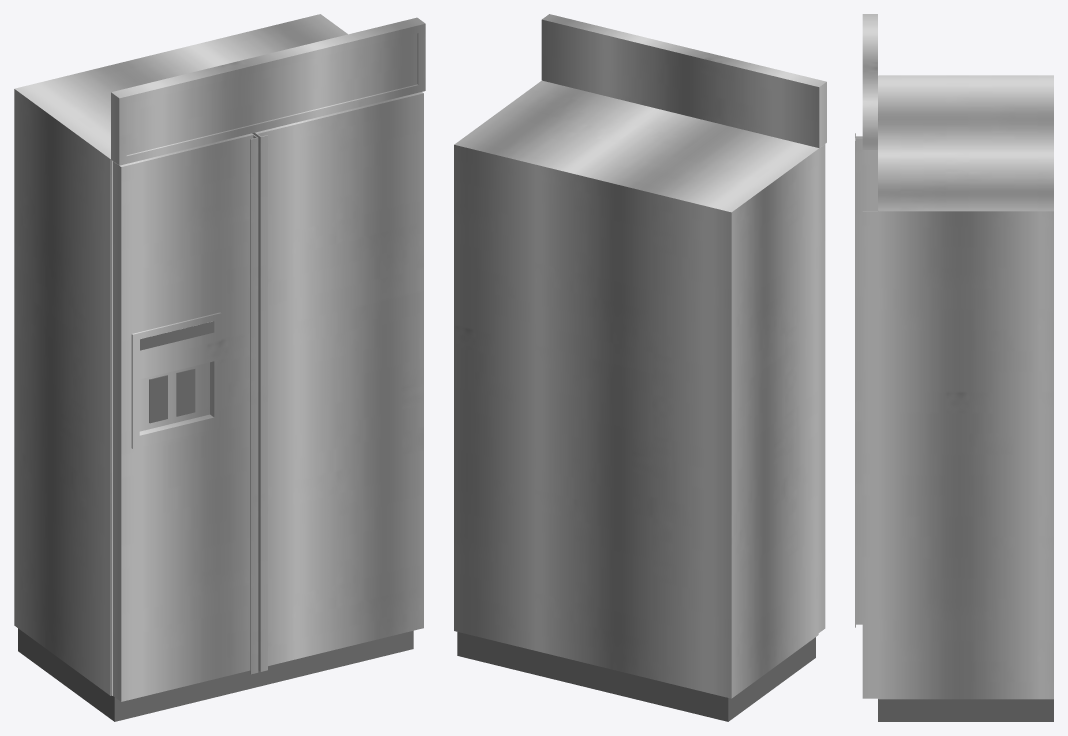
Rendered from KSSP42QTS.gltf.
3 views of the same model, side by side, from view 1: azimuth 30°, elevation 25°; view 2: azimuth 150°, elevation 25°; view 3: azimuth 270°, elevation 25° (orthographic). The views are drawn at different scales.
Visible parts, largest first — view 1: Group_4, Group_2, Group_5, Group_11, Group_10, Group_1, Group_3, Group_8, Group_9, Component_1 (×2), SketchUp; view 2: Group_2, Group_10, Group_3, Group_5; view 3: Group_2, Group_4, Group_3, Group_8, Group_10.
Boxes of the visible parts, left/top/right/bottom form: Group_4: left=256, top=92, right=423, bottom=665; Group_2: left=14, top=14, right=347, bottom=695; Group_5: left=113, top=133, right=253, bottom=701; Group_11: left=126, top=33, right=417, bottom=154; Group_10: left=111, top=17, right=425, bottom=165; Group_1: left=131, top=312, right=221, bottom=448; Group_3: left=18, top=628, right=413, bottom=721; Group_8: left=252, top=132, right=267, bottom=671; Group_9: left=250, top=133, right=258, bottom=674; Component_1 (×2): left=149, top=368, right=195, bottom=423; SketchUp: left=140, top=321, right=214, bottom=350; Group_2: left=454, top=80, right=818, bottom=698; Group_10: left=541, top=14, right=826, bottom=147; Group_3: left=457, top=632, right=815, bottom=721; Group_5: left=818, top=144, right=825, bottom=632; Group_2: left=878, top=75, right=1053, bottom=699; Group_4: left=862, top=211, right=877, bottom=698; Group_3: left=878, top=699, right=1053, bottom=721; Group_8: left=855, top=137, right=862, bottom=627; Group_10: left=862, top=14, right=877, bottom=211.
Bounding box in the file's own units: 1.07 × 2.11 × 0.6636.
3 materials, 1 textured.
